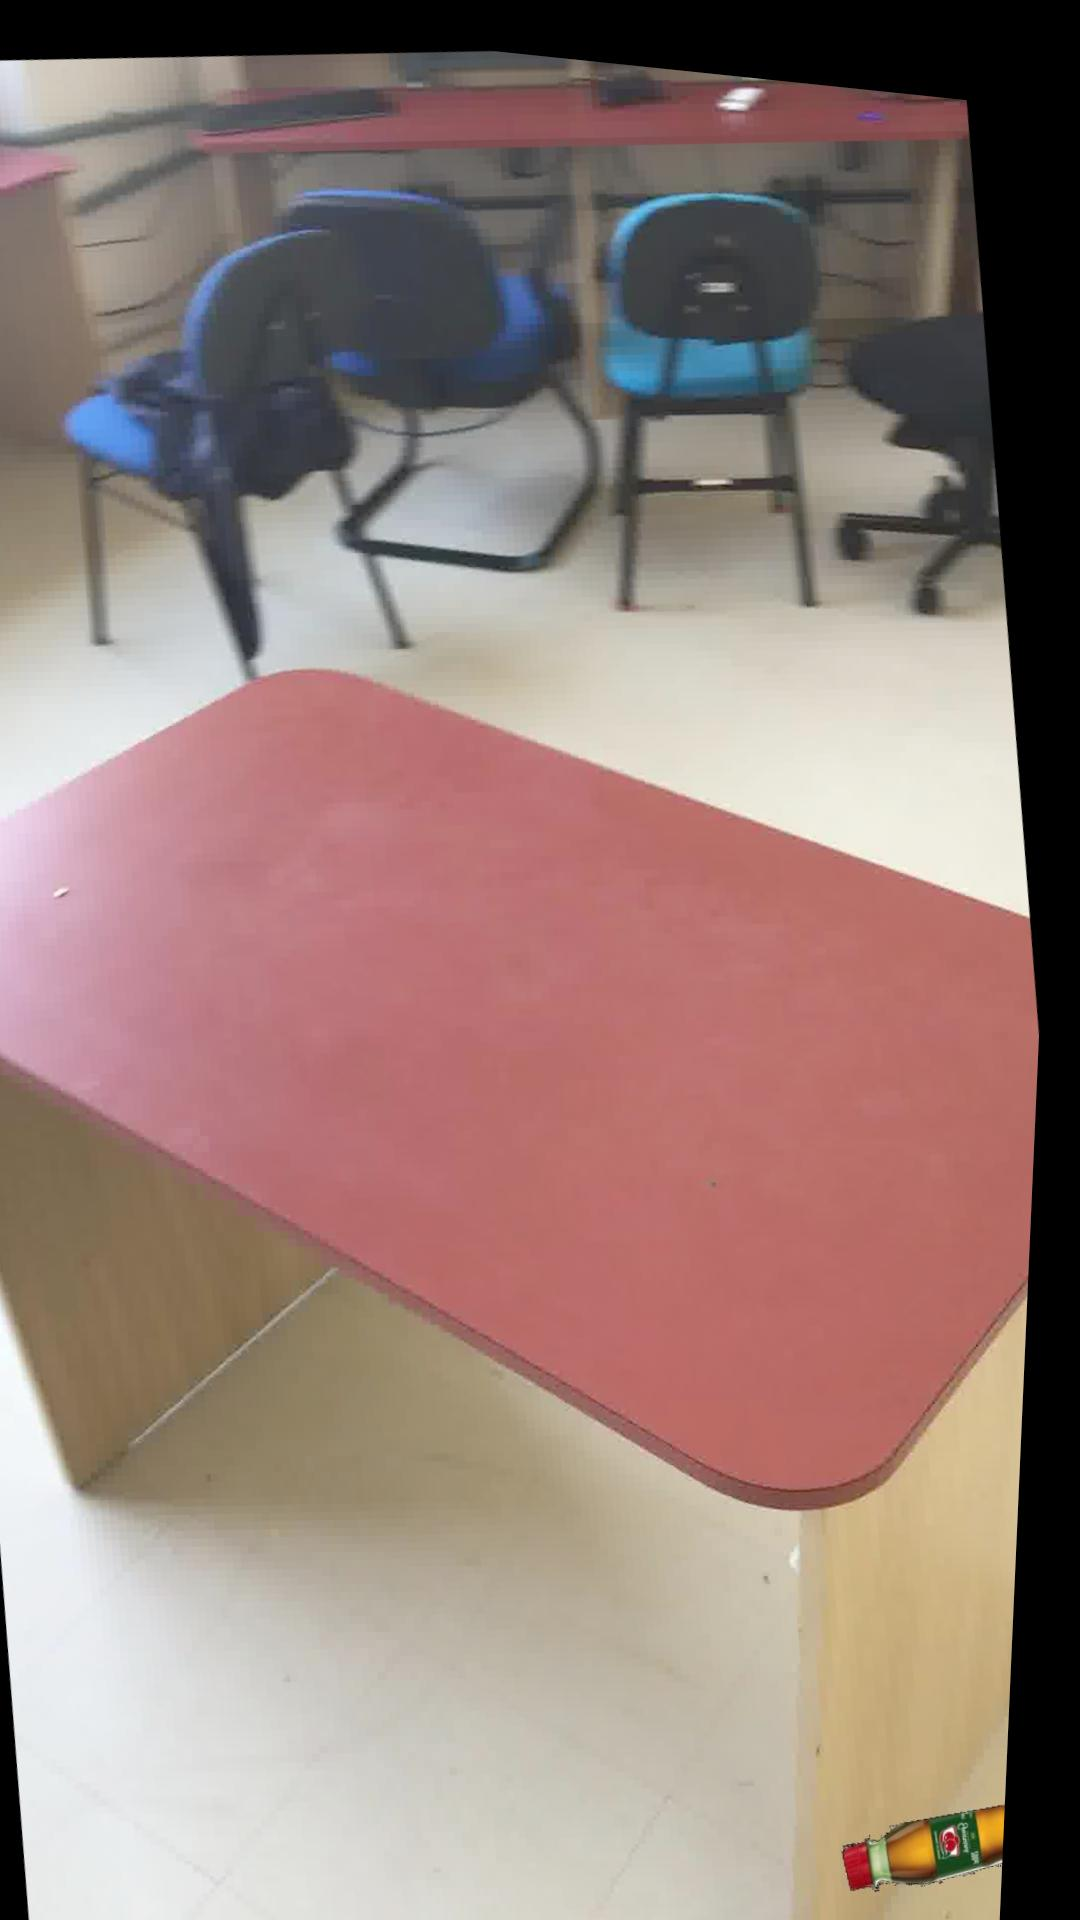guarana: (858, 1778, 1021, 1867)
